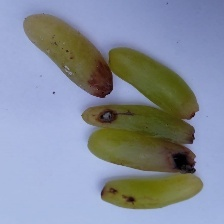grapes: (30, 37, 197, 178)
